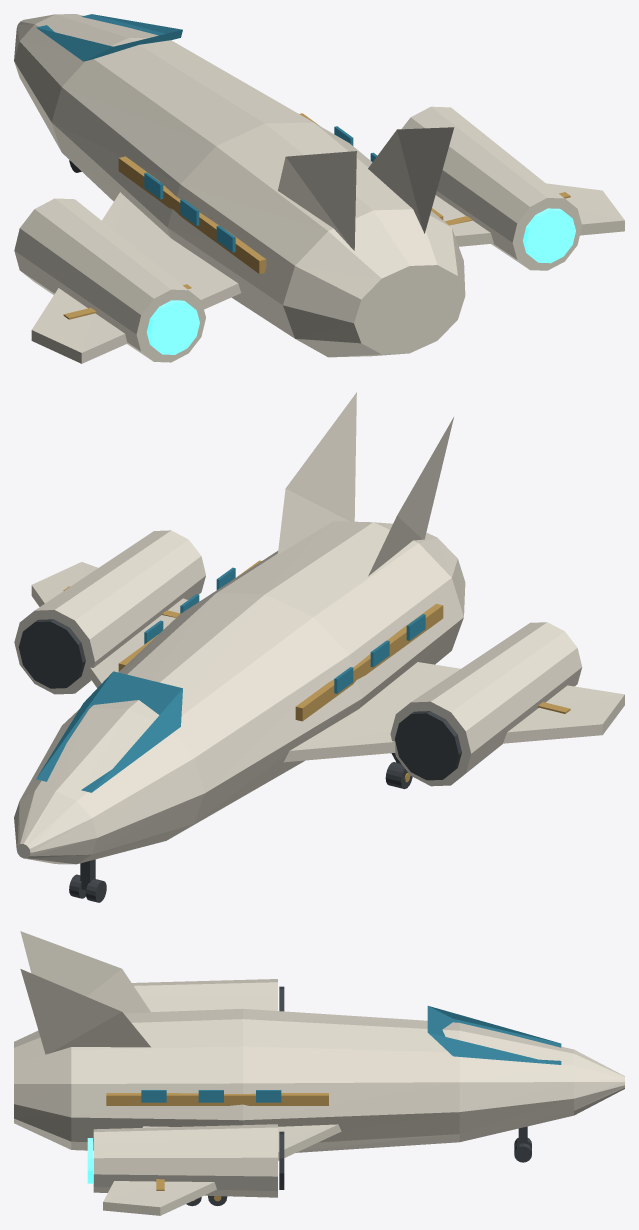
File: Royal.glb
3 views of the same model, one above another, from view 1: azimuth 30°, elevation 25°; view 2: azimuth 150°, elevation 25°; view 3: azimuth 270°, elevation 25° (orthographic). The views are drawn at different scales.
Parts seen in each view (by area): view 1: Ivory, Light, Glass Dark, Gold; view 2: Ivory, Metal, Glass Dark, Gold; view 3: Ivory, Glass Dark, Gold, Metal.
Boxes of the visible parts, x1=… form: Ivory: x1=14, y1=14, x2=624, y2=363; Light: x1=146, y1=208, x2=575, y2=354; Glass Dark: x1=36, y1=14, x2=377, y2=252; Gold: x1=63, y1=113, x2=570, y2=319; Ivory: x1=14, y1=392, x2=624, y2=864; Metal: x1=18, y1=619, x2=461, y2=902; Glass Dark: x1=36, y1=567, x2=425, y2=792; Gold: x1=63, y1=560, x2=570, y2=782; Ivory: x1=14, y1=931, x2=624, y2=1215; Glass Dark: x1=141, y1=1006, x2=561, y2=1102; Gold: x1=106, y1=1093, x2=328, y2=1201; Metal: x1=186, y1=986, x2=531, y2=1206.
Size of the model in its own units: 42.64 by 18.72 by 49.92.
